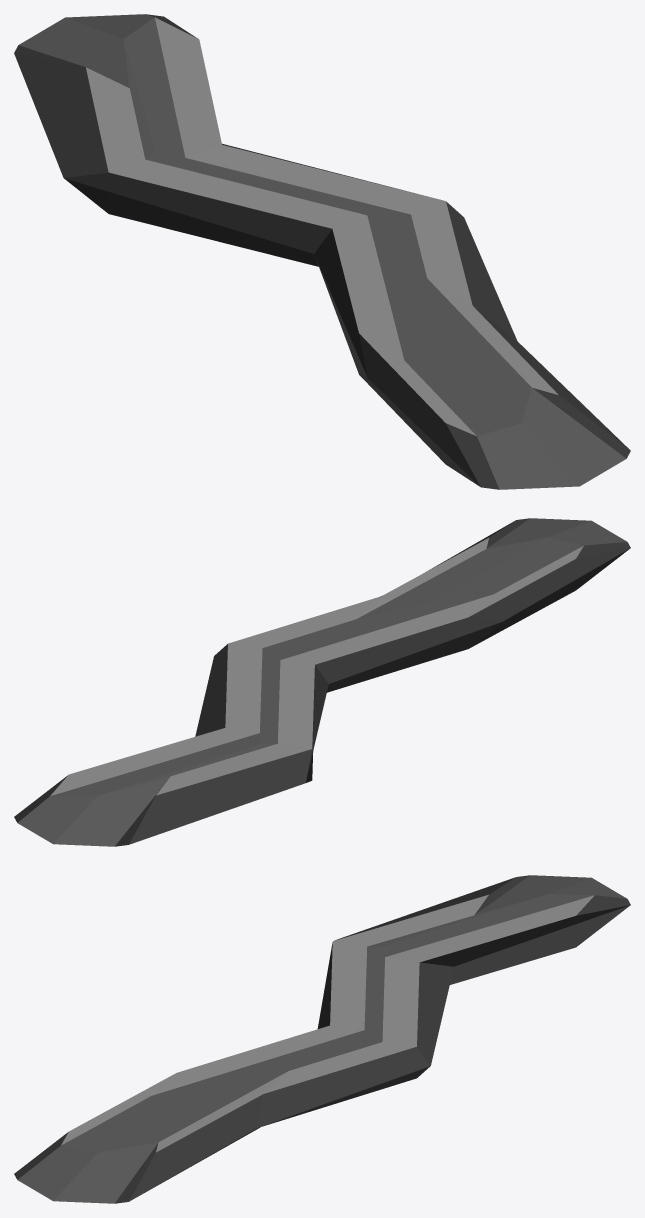
The model's file is Burnt Bacon.fbx.
3 views of the same model, one above another, from view 1: azimuth 30°, elevation 25°; view 2: azimuth 150°, elevation 25°; view 3: azimuth 330°, elevation 25° (orthographic). The views are drawn at different scales.
Visible parts, largest first — view 1: Burnt Bacon; view 2: Burnt Bacon; view 3: Burnt Bacon.
Part boxes in pixels (left/top/right/bottom): Burnt Bacon: left=14, top=14, right=630, bottom=489; Burnt Bacon: left=14, top=518, right=630, bottom=846; Burnt Bacon: left=14, top=875, right=630, bottom=1203.
Bounding box in the file's own units: 4.68 × 0.7021 × 18.7.
